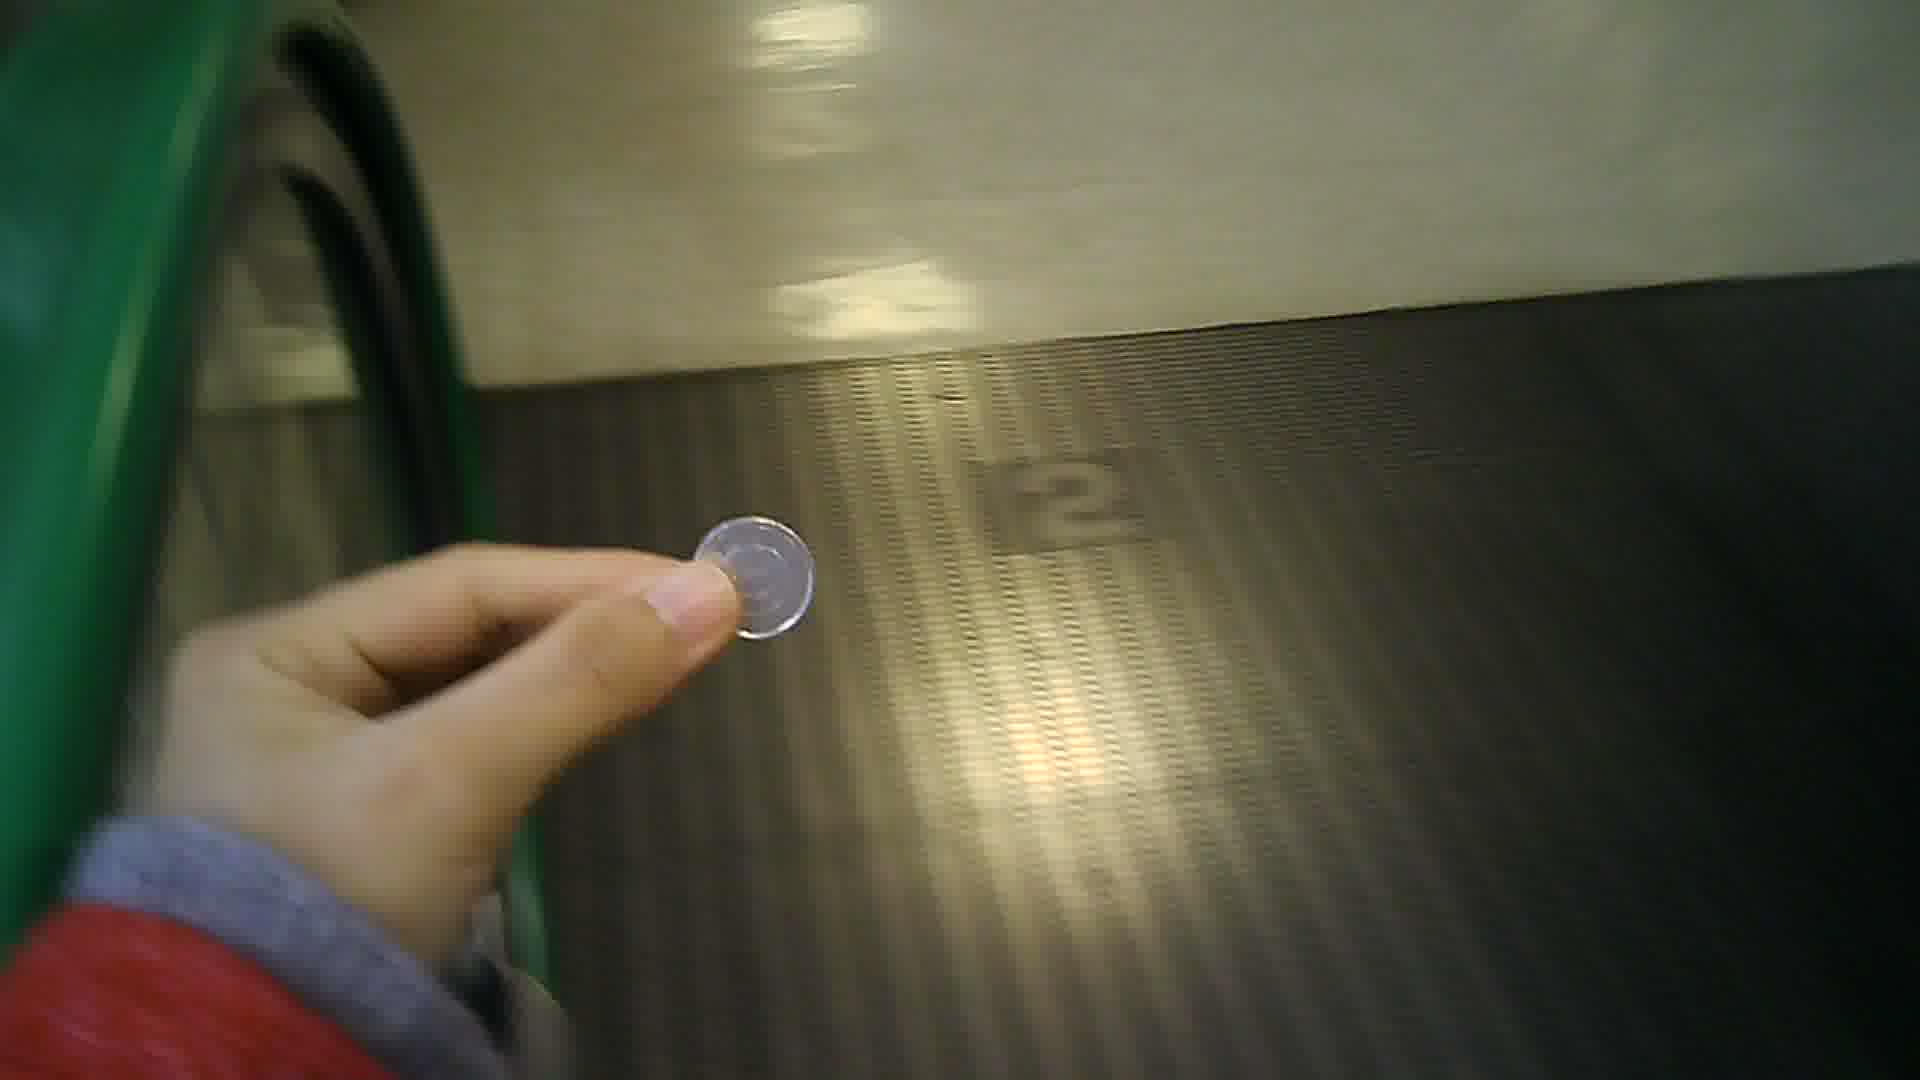1 Yen: (688, 512, 823, 644)
